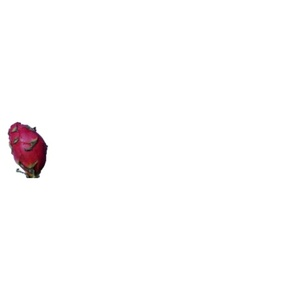pitaia: (8, 122, 48, 180)
